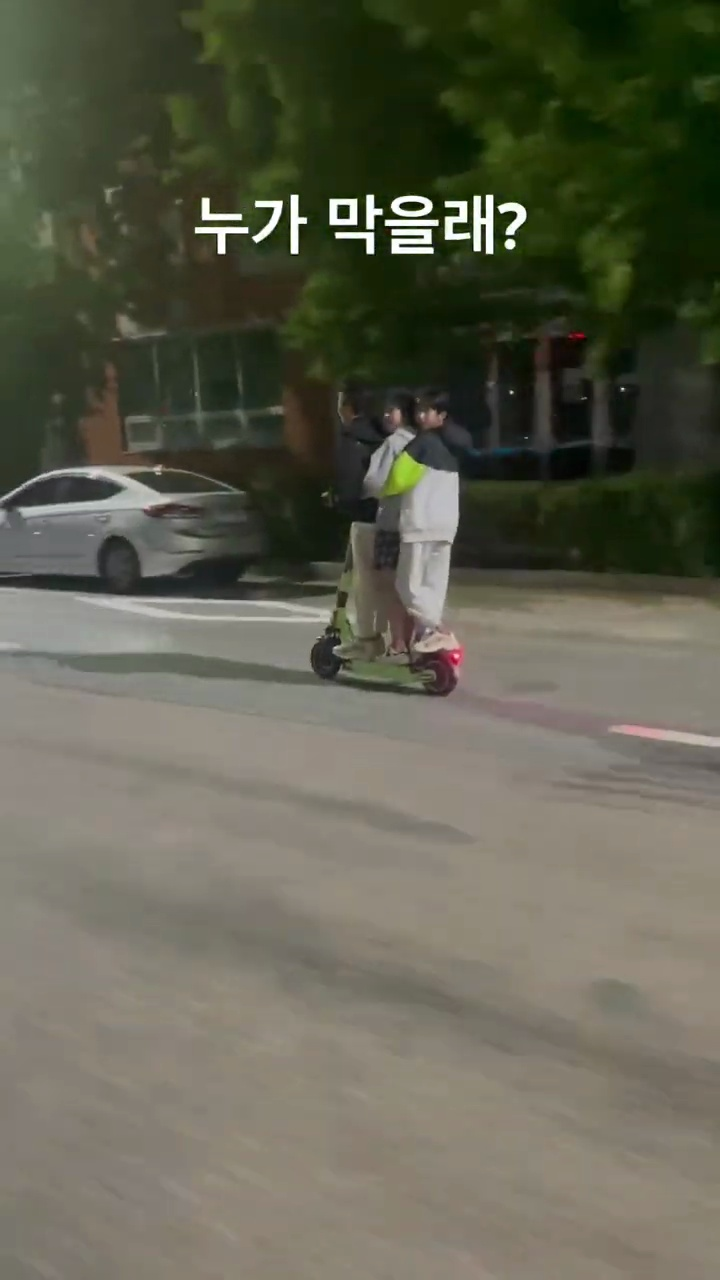multiple: (301, 374, 478, 697)
